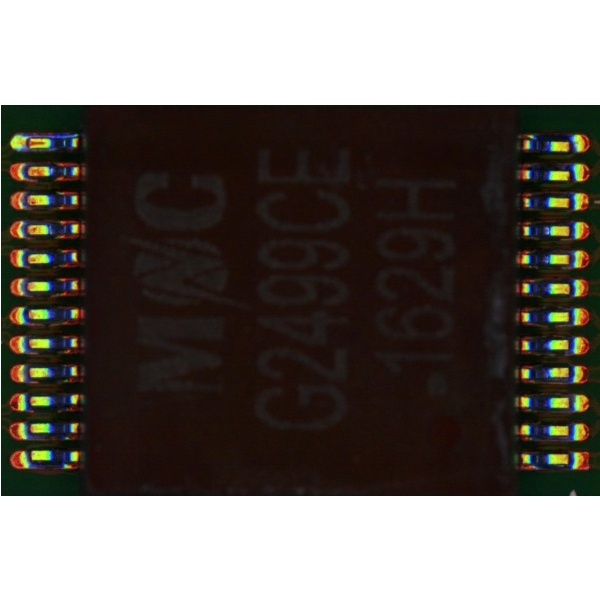Bad_podu: (17, 138, 33, 148)
Bad_qiaojiao: (29, 134, 77, 139)
